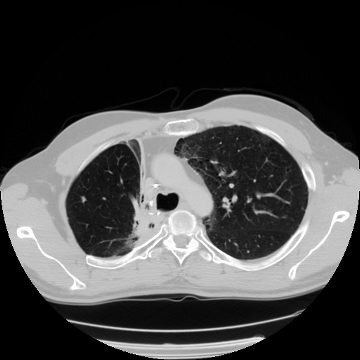nodule: (81, 196, 87, 202)
